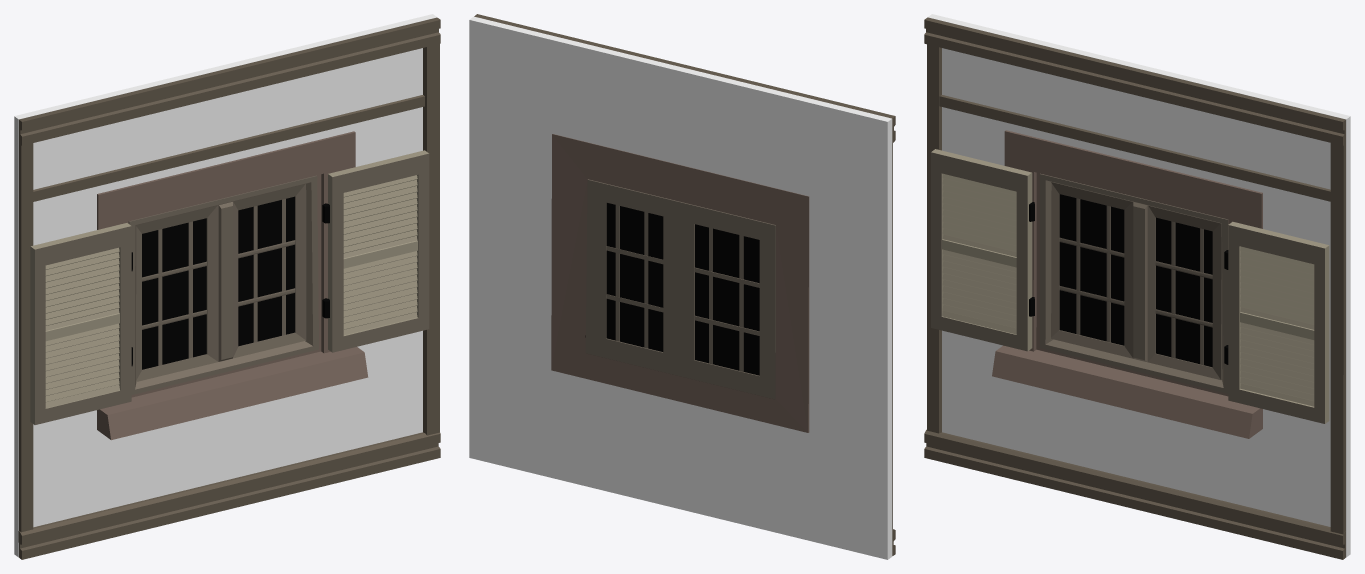
File: WINDOW_06_1.glb
The picture shows the model from 3 angles, left to right: view 1: azimuth 30°, elevation 25°; view 2: azimuth 150°, elevation 25°; view 3: azimuth 330°, elevation 25°; orthographic projection.
Parts seen in each view (by area): view 1: WINDOW_06_1; view 2: WINDOW_06_1; view 3: WINDOW_06_1.
Part boxes in pixels (x1,y1,x2,y2): WINDOW_06_1: [14, 14, 440, 559]; WINDOW_06_1: [469, 14, 895, 559]; WINDOW_06_1: [924, 14, 1350, 559].
Bounding box in the file's own units: 3 × 3 × 0.2438.
1 material, 1 textured.
